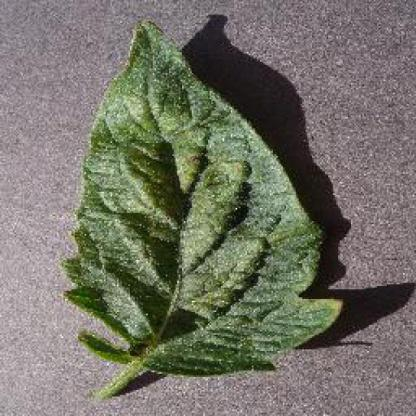Tomato_Spider_Mites: (65, 23, 343, 372)
